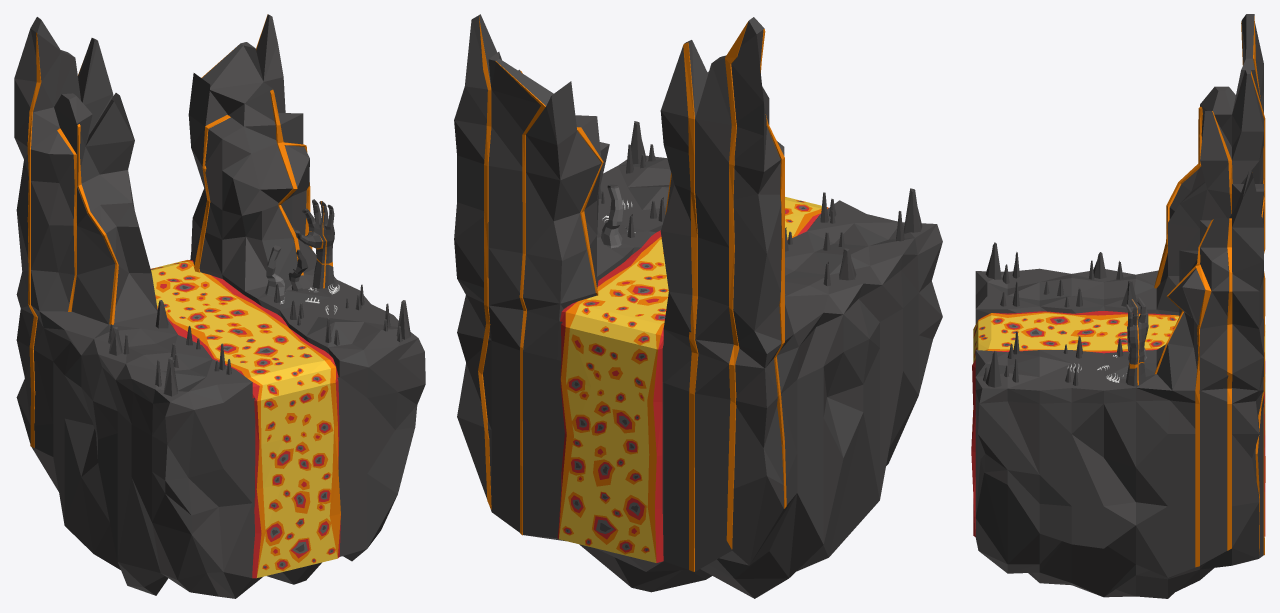
The model's file is Island_3.glb.
3 renders of one model, left to right at view 1: azimuth 30°, elevation 25°; view 2: azimuth 150°, elevation 25°; view 3: azimuth 270°, elevation 25°, orthographic. The views are drawn at different scales.
Visible parts, largest first — view 1: Island_3_Base, Island_3_Hand, Island_3; view 2: Island_3_Base, Island_3; view 3: Island_3_Base, Island_3_Hand.
Part boxes in pixels (bbox=[...]): Island_3_Base: bbox=[14, 14, 425, 598]; Island_3_Hand: bbox=[295, 199, 334, 288]; Island_3: bbox=[264, 245, 339, 314]; Island_3_Base: bbox=[454, 14, 942, 598]; Island_3: bbox=[601, 184, 635, 248]; Island_3_Base: bbox=[971, 14, 1265, 598]; Island_3_Hand: bbox=[1125, 297, 1148, 386].
Size of the model in its own units: 20.47 by 40.07 by 20.41.
2 materials, 2 textured.
